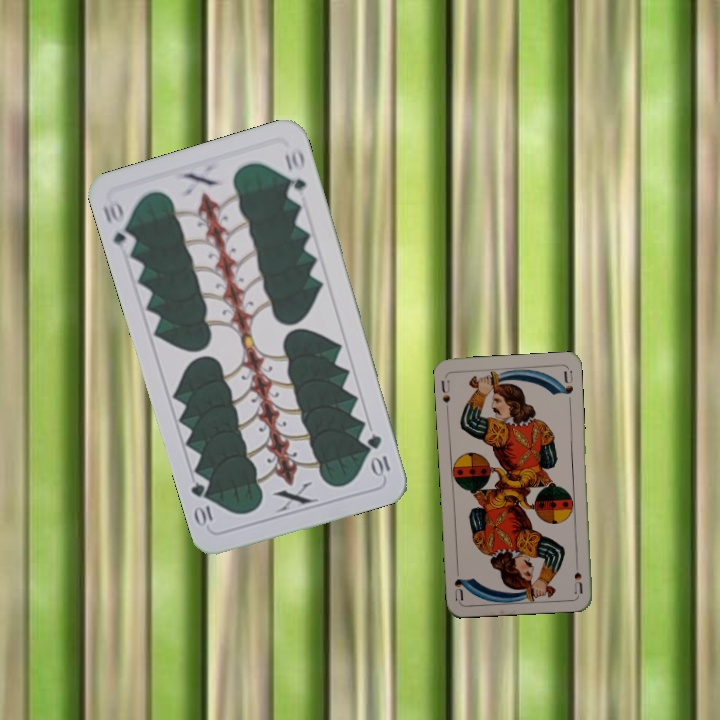G10: (99, 195, 138, 255), (363, 430, 393, 479)
SU: (570, 555, 585, 595), (437, 376, 453, 406)
